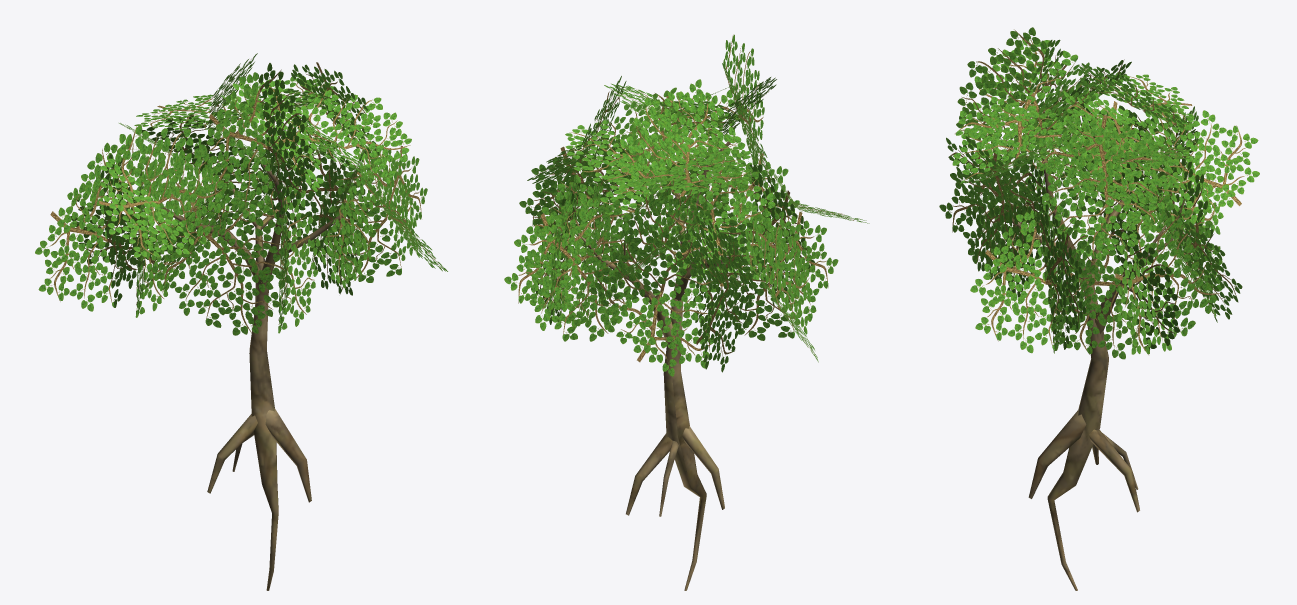
File: tree01.dae
3 renders of one model, left to right at view 1: azimuth 30°, elevation 25°; view 2: azimuth 150°, elevation 25°; view 3: azimuth 270°, elevation 25°, orthographic. The views are drawn at different scales.
Visible parts, largest first — view 1: mesh; view 2: mesh; view 3: mesh.
Boxes of the visible parts, x1=… form: mesh: x1=35, y1=53, x2=447, y2=590; mesh: x1=504, y1=34, x2=869, y2=590; mesh: x1=939, y1=27, x2=1259, y2=590.
Size of what is drawn, in the model's own units: 10.14 by 8.58 by 14.75.
2 materials, 2 textured.
